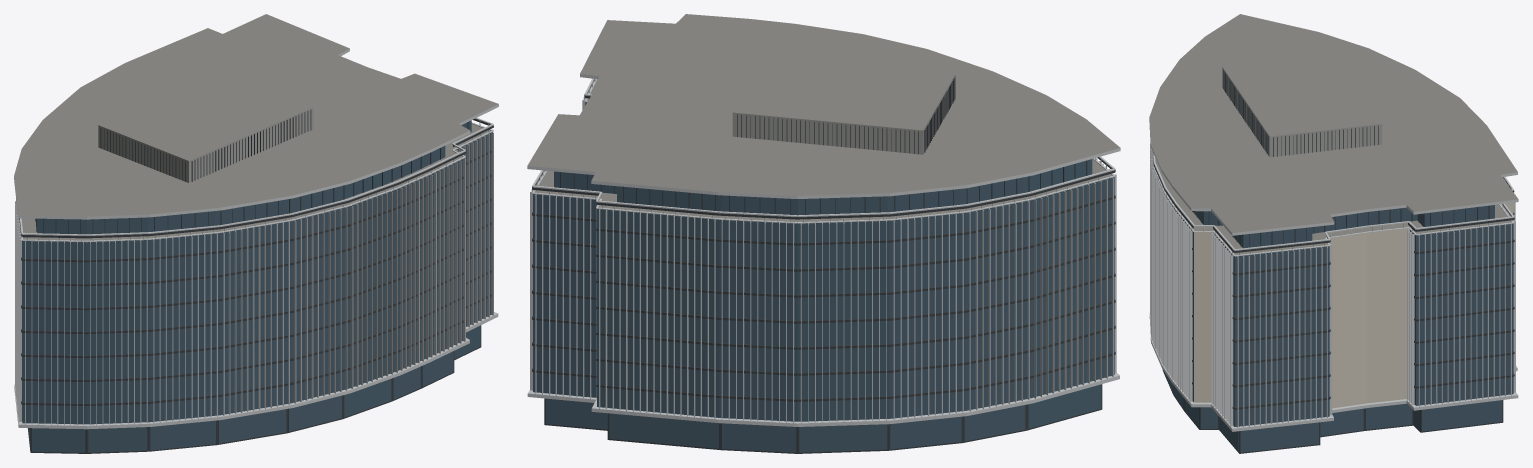
File: the_point_paddington.glb
3 views of the same model, side by side, from view 1: azimuth 30°, elevation 25°; view 2: azimuth 150°, elevation 25°; view 3: azimuth 270°, elevation 25° (orthographic). The views are drawn at different scales.
Bounding box in the file's own units: 77.02 × 41.57 × 55.26.
